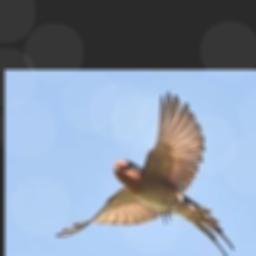Swallow: (54, 91, 234, 256)
